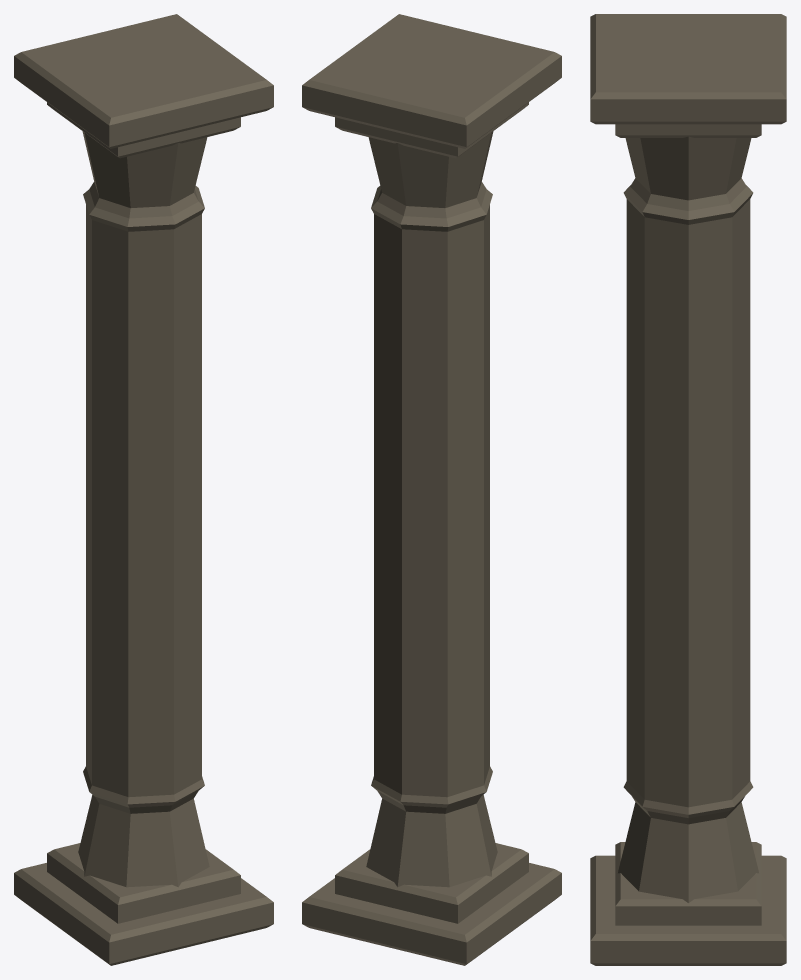
Rendered from Pillar1.glb.
The picture shows the model from 3 angles, left to right: view 1: azimuth 30°, elevation 25°; view 2: azimuth 150°, elevation 25°; view 3: azimuth 270°, elevation 25°; orthographic projection. The views are drawn at different scales.
Parts seen in each view (by area): view 1: Pillar1; view 2: Pillar1; view 3: Pillar1.
Boxes of the visible parts, x1=… form: Pillar1: x1=14, y1=14, x2=273, y2=965; Pillar1: x1=302, y1=14, x2=561, y2=965; Pillar1: x1=590, y1=14, x2=786, y2=965.
Size of the model in its own units: 0.881 by 4.33 by 0.881.
